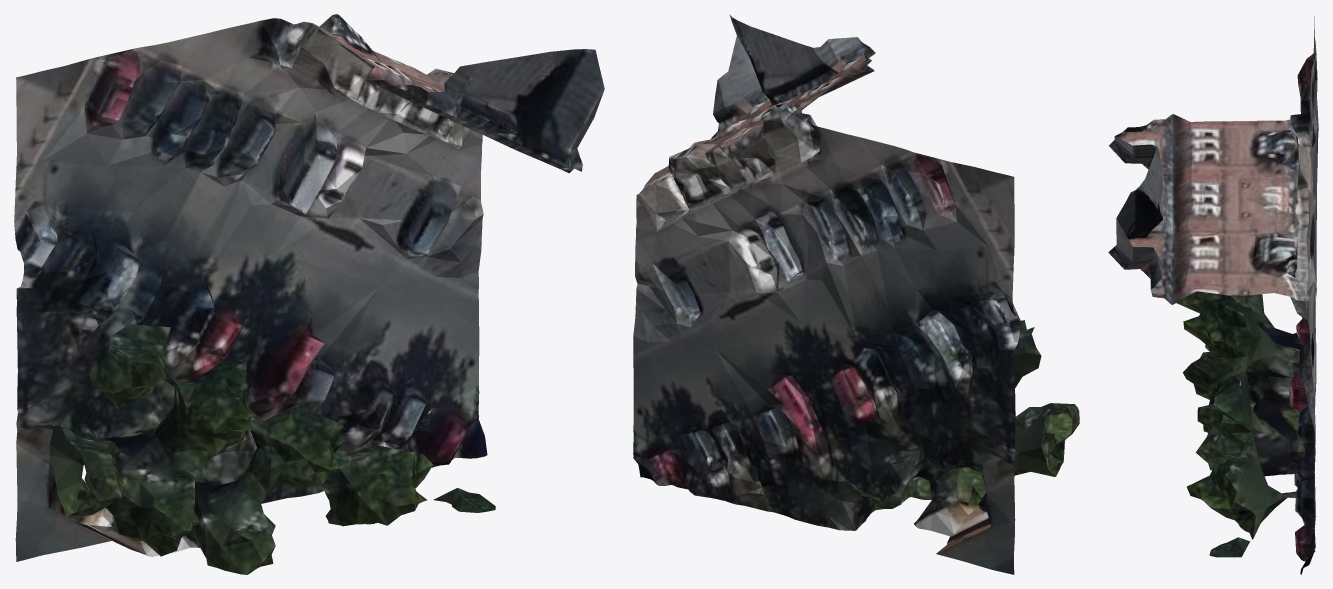
Rendered from Tile_+038_+019_L19_000211.obj.
3 views of the same model, side by side, from view 1: azimuth 30°, elevation 25°; view 2: azimuth 150°, elevation 25°; view 3: azimuth 270°, elevation 25° (orthographic). The views are drawn at different scales.
Size of the model in its own units: 31.75 by 31.75 by 15.84.
1 material, 1 textured.
